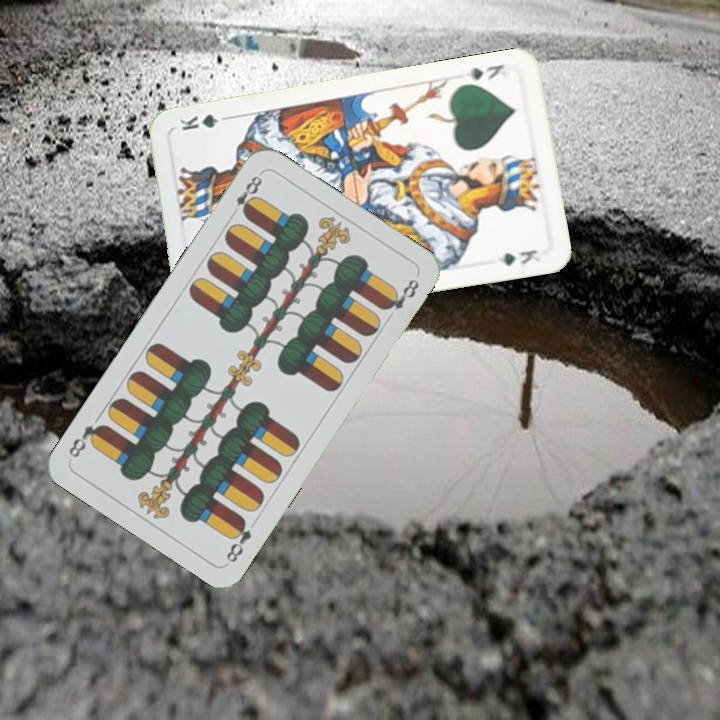E8: (226, 169, 265, 220), (221, 513, 255, 566)
GK: (460, 60, 510, 85)
